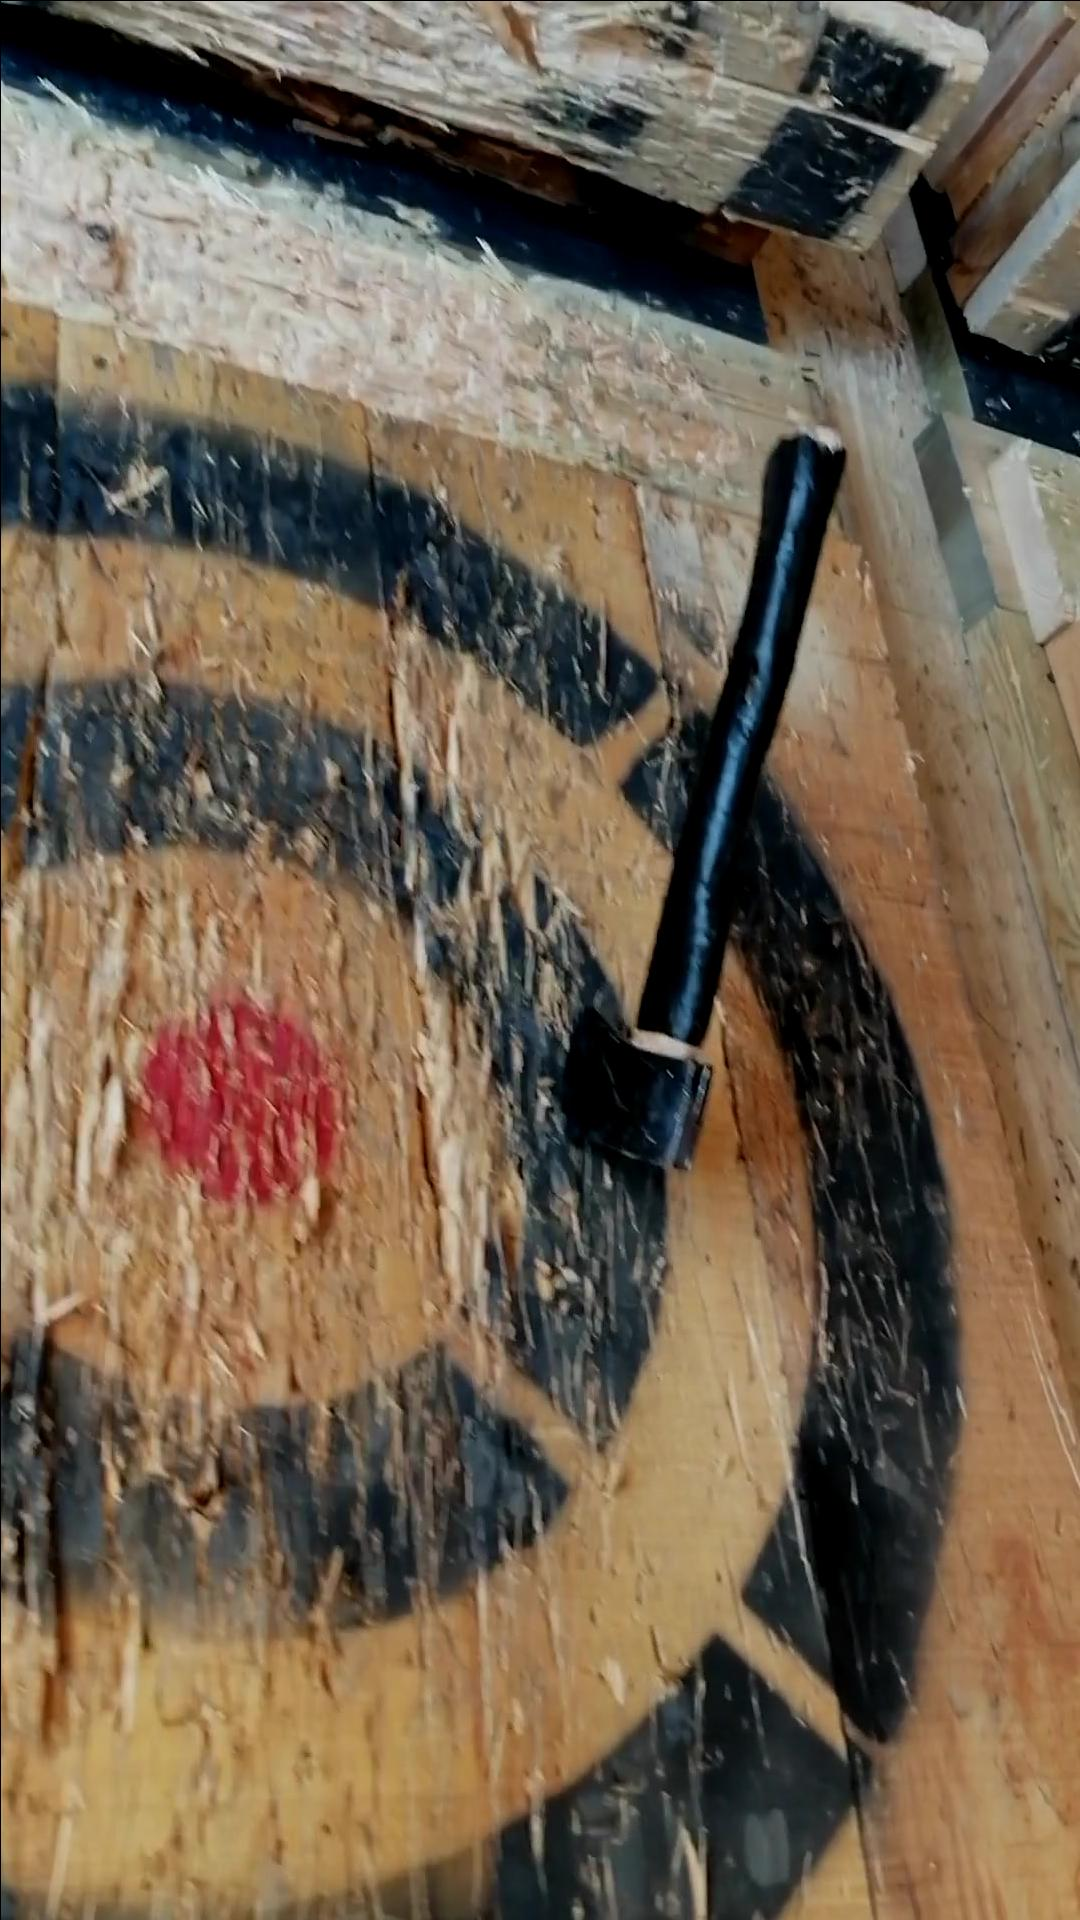Hand Axe: (549, 1000, 720, 1174)
